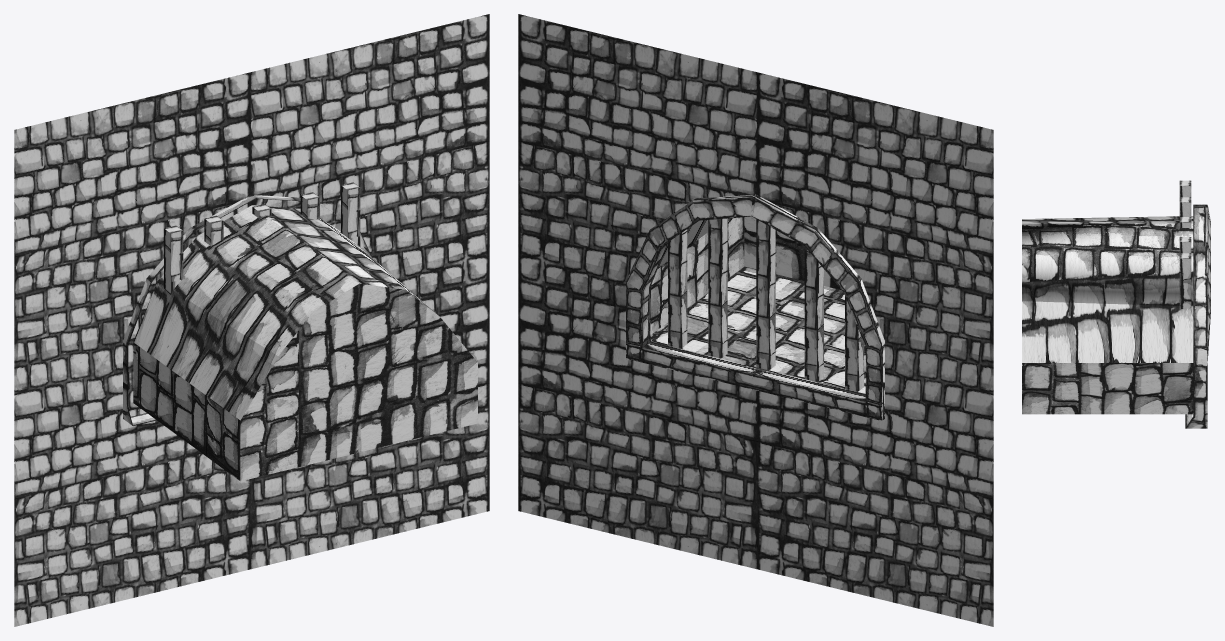
The model's file is CanalEnd.fbx.
The picture shows the model from 3 angles, left to right: view 1: azimuth 30°, elevation 25°; view 2: azimuth 150°, elevation 25°; view 3: azimuth 270°, elevation 25°; orthographic projection. The views are drawn at different scales.
Visible parts, largest first — view 1: Normal1; view 2: Normal1; view 3: Normal1.
Part boxes in pixels (x1,y1,x2,y2): Normal1: [14, 14, 489, 626]; Normal1: [518, 14, 993, 626]; Normal1: [1022, 180, 1210, 428].
Size of the model in its own units: 8 by 8 by 3.28.
